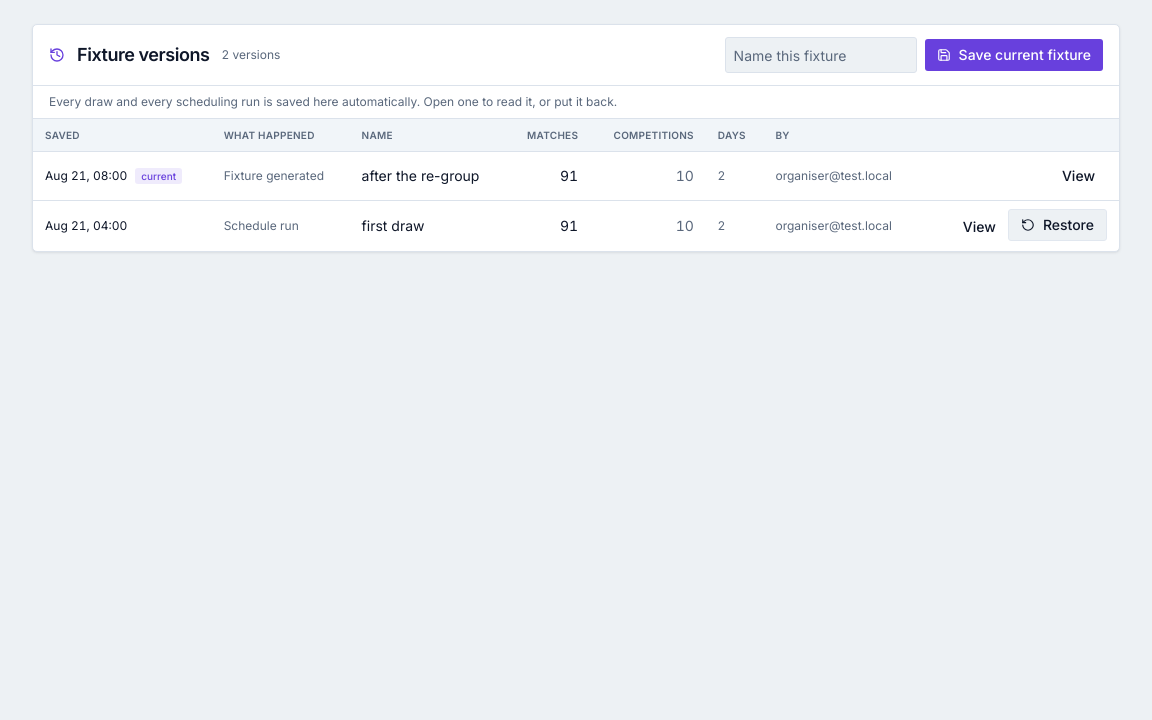
FixtureVersionsPage › says why when the server refuses a restore
expect the table with test id "versions-table" is shown: met, box [33,119,1119,251]
What coordinates should you click on to do the following:
click the button with test id "restore-older"
I would click on:
 (1057, 225)
Its box is [1008,209,1107,241].
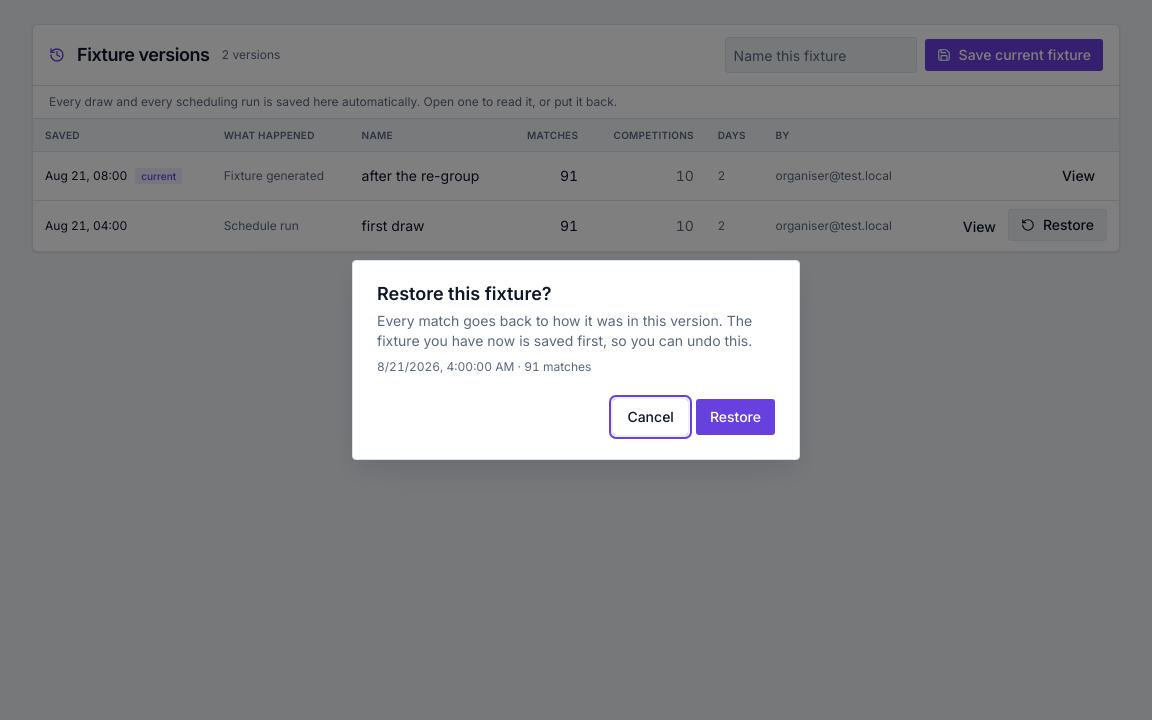
What coordinates should you click on to do the following:
click the button with test id "confirm-restore"
I would click on:
 (735, 417)
Its box is [696,399,775,435].
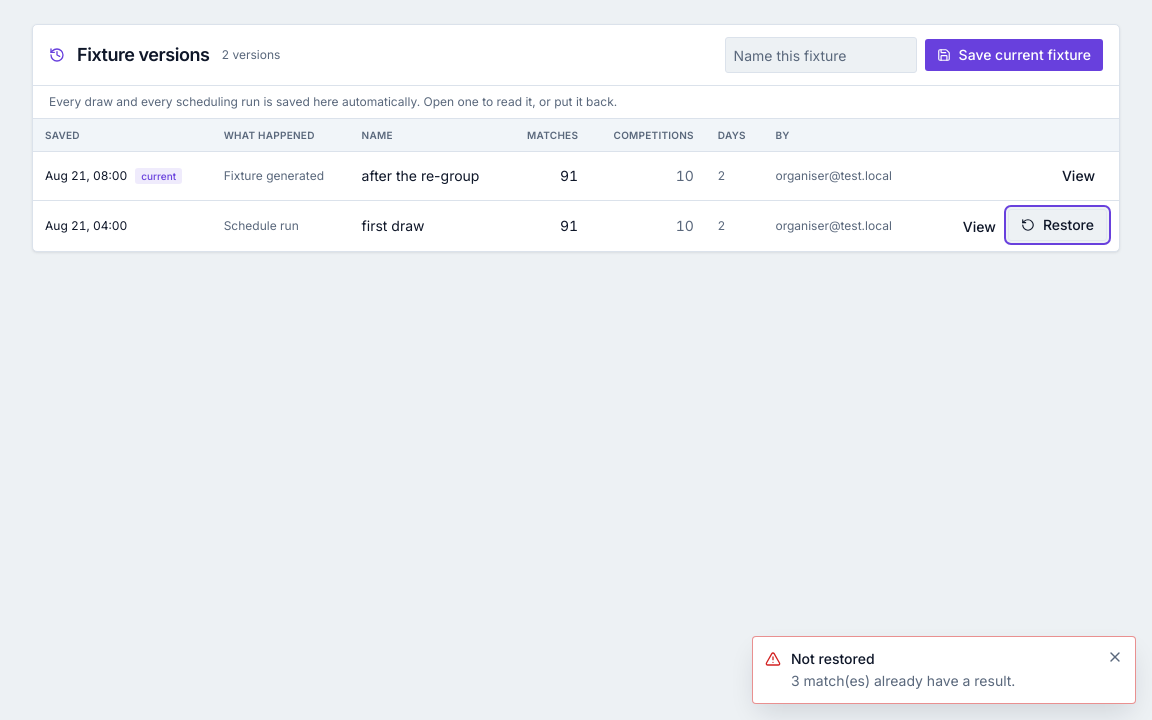
expect the text "3 match(es) already have a result." is shown: met, box [791,672,1015,689]
